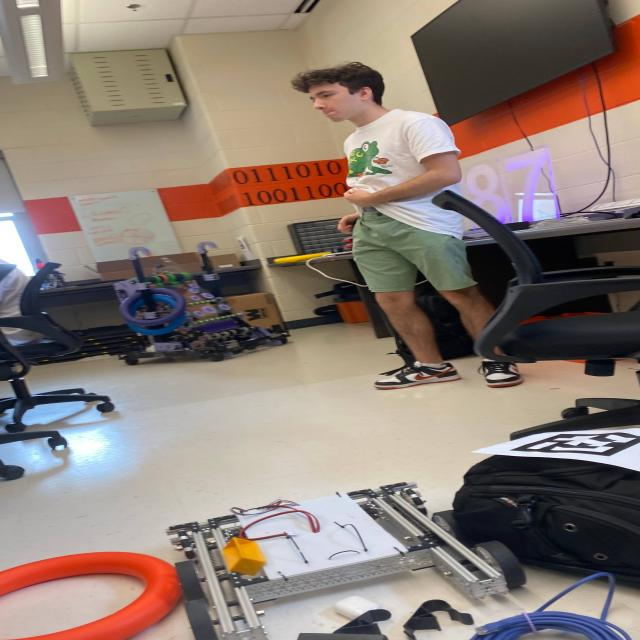yellow-specimen: (222, 537, 266, 576)
